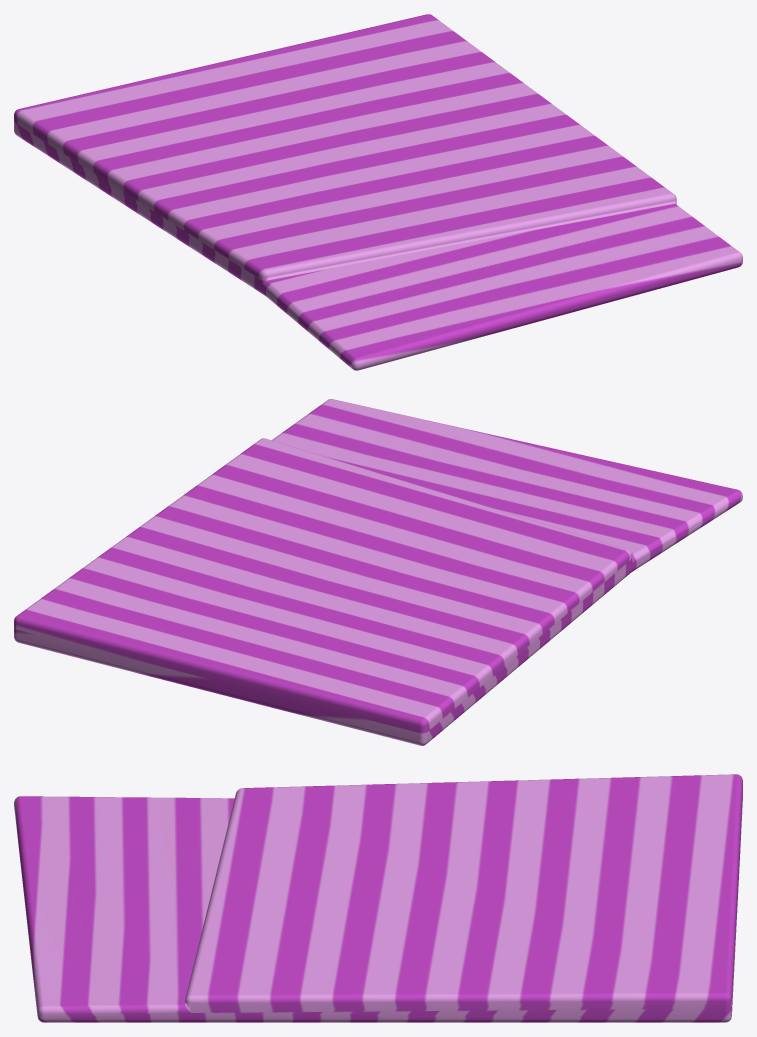
File: PR_towel.fbx
3 views of the same model, one above another, from view 1: azimuth 30°, elevation 25°; view 2: azimuth 150°, elevation 25°; view 3: azimuth 270°, elevation 25° (orthographic). The views are drawn at different scales.
Visible parts, largest first — view 1: pCube5; view 2: pCube5; view 3: pCube5.
Part boxes in pixels (bbox=[...]): pCube5: bbox=[14, 14, 742, 370]; pCube5: bbox=[14, 399, 742, 745]; pCube5: bbox=[14, 774, 742, 1022].
Bounding box in the file's own units: 15.14 × 0.9313 × 20.9.
1 material, 1 textured.
